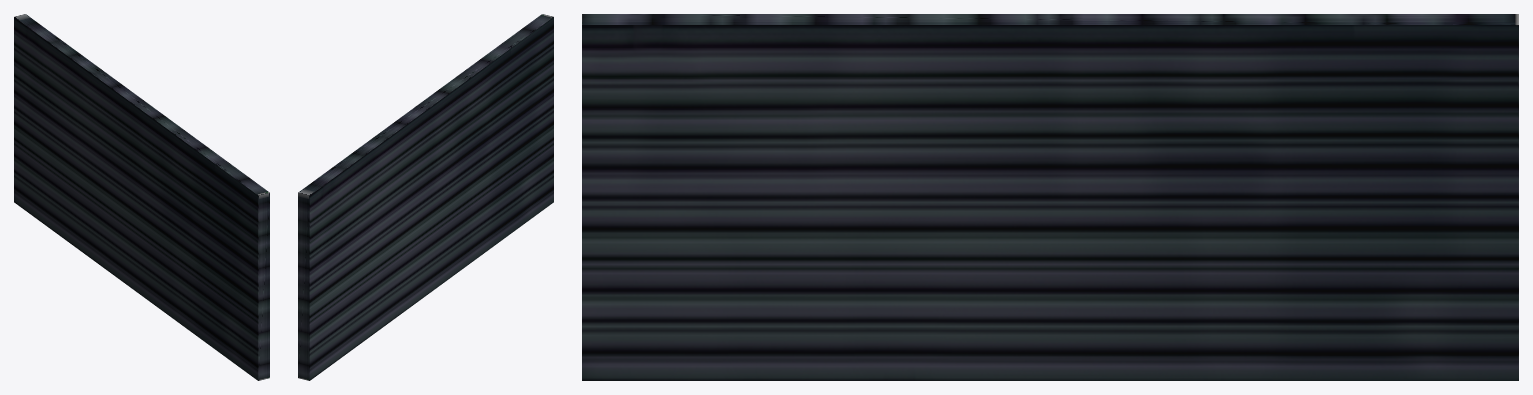
The picture shows the model from 3 angles, left to right: view 1: azimuth 30°, elevation 25°; view 2: azimuth 150°, elevation 25°; view 3: azimuth 270°, elevation 25°; orthographic projection. The views are drawn at different scales.
Visible parts, largest first — view 1: la; view 2: la; view 3: la.
Part boxes in pixels (x1,y1,x2,y2): la: (14, 14, 269, 380); la: (298, 14, 553, 380); la: (582, 14, 1518, 380).
Size of the model in its own units: 11.63 by 177 by 421.
